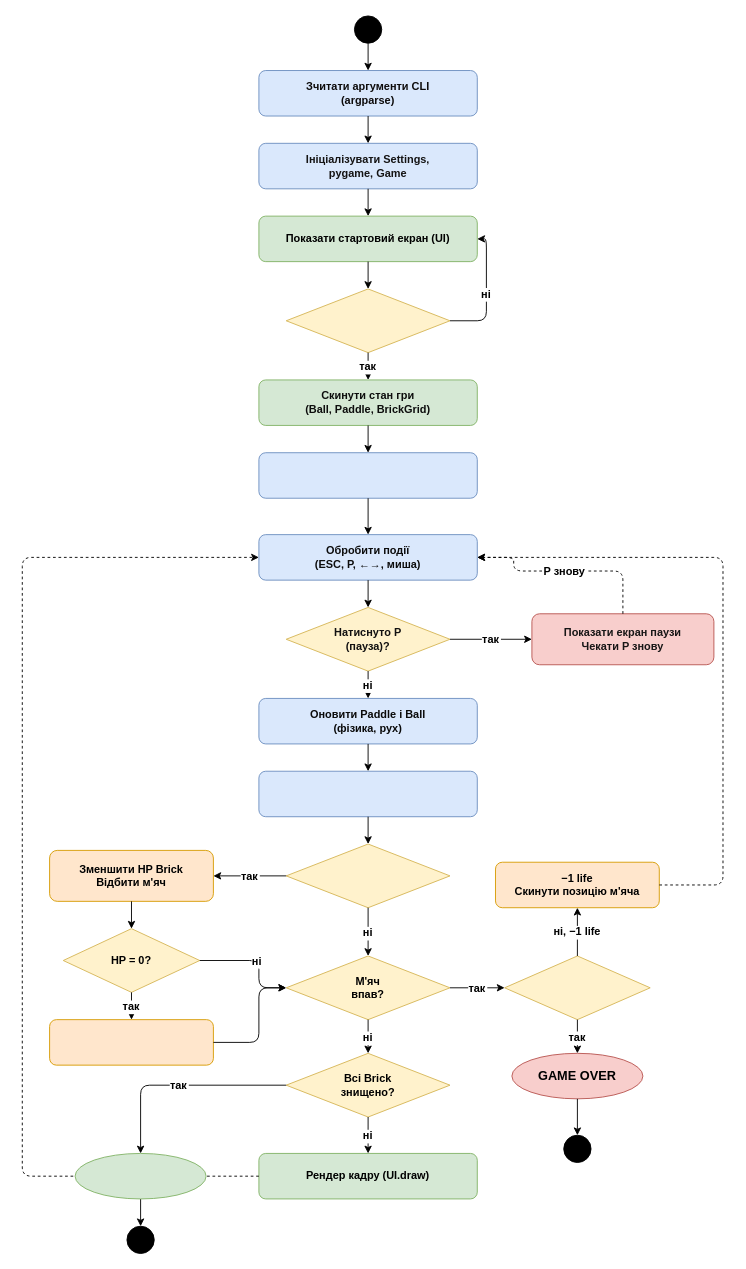
Some shapes in this 746 by 1269 pixel diagram are drawn without their labels. Here are the shapes that lost their labels. From the top down, the centre of each, then its label:
At (367,320): "Натиснуто SPACE?".
At (367,475): "GameState = PLAYING".
At (367,793): "Перевірити колізії Ball (стіни, paddle, bricks)".
At (367,875): "Попав у Brick?".
At (577,987): "Lives = 0?".
At (131,1042): "Знищити Brick Нарахувати +score".
At (140,1176): "WIN! Наступний рівень".
